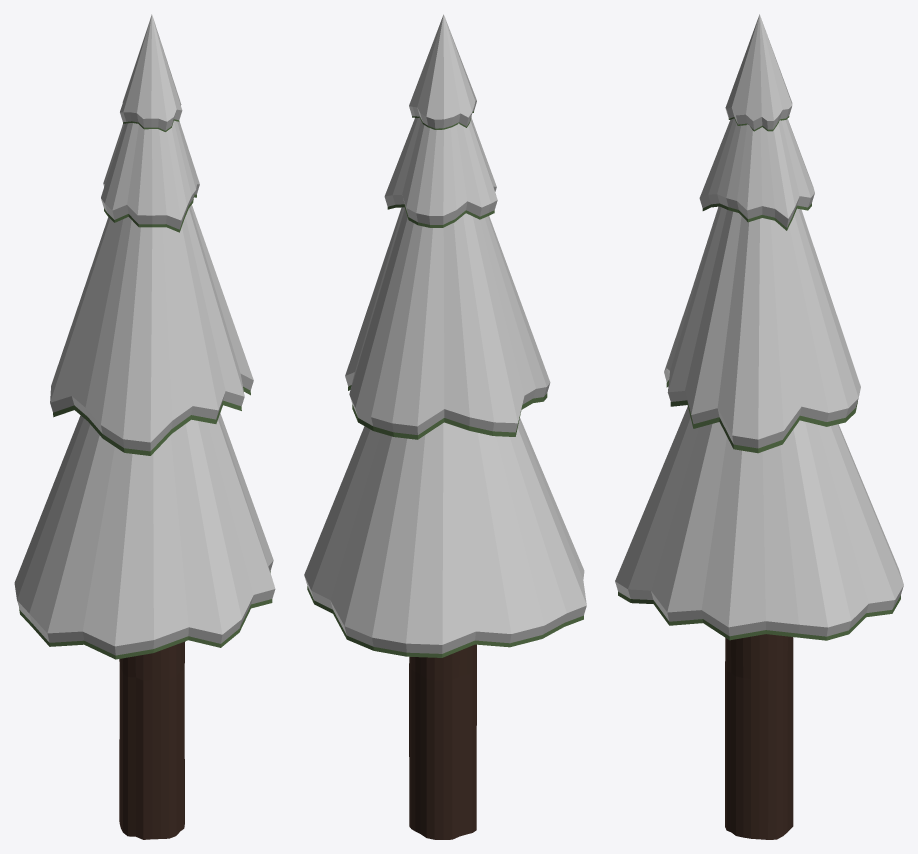
File: tree_snow2.glb
The picture shows the model from 3 angles, left to right: view 1: azimuth 30°, elevation 25°; view 2: azimuth 150°, elevation 25°; view 3: azimuth 270°, elevation 25°; orthographic projection.
Visible parts, largest first — view 1: Cylinder; view 2: Cylinder; view 3: Cylinder.
Boxes of the visible parts, box(x1,y1,x2,y2) form: Cylinder: box(14, 14, 275, 839); Cylinder: box(304, 14, 586, 839); Cylinder: box(615, 14, 903, 839).
Size of the model in its own units: 1.52 by 5.11 by 1.65.
